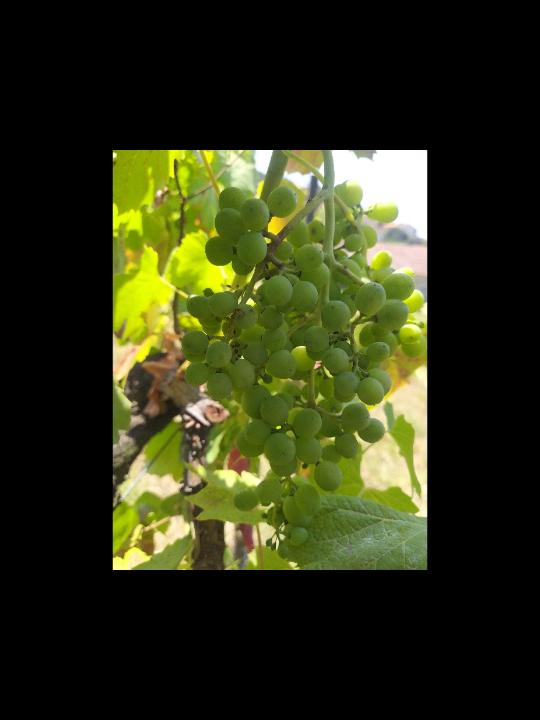grape: (178, 179, 425, 559)
